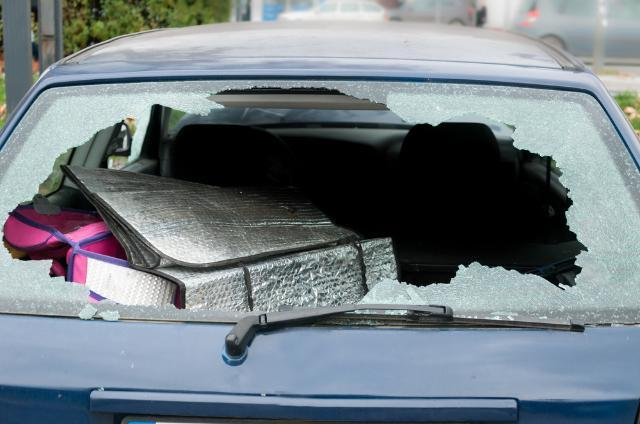glass shatter: (0, 79, 640, 327)
